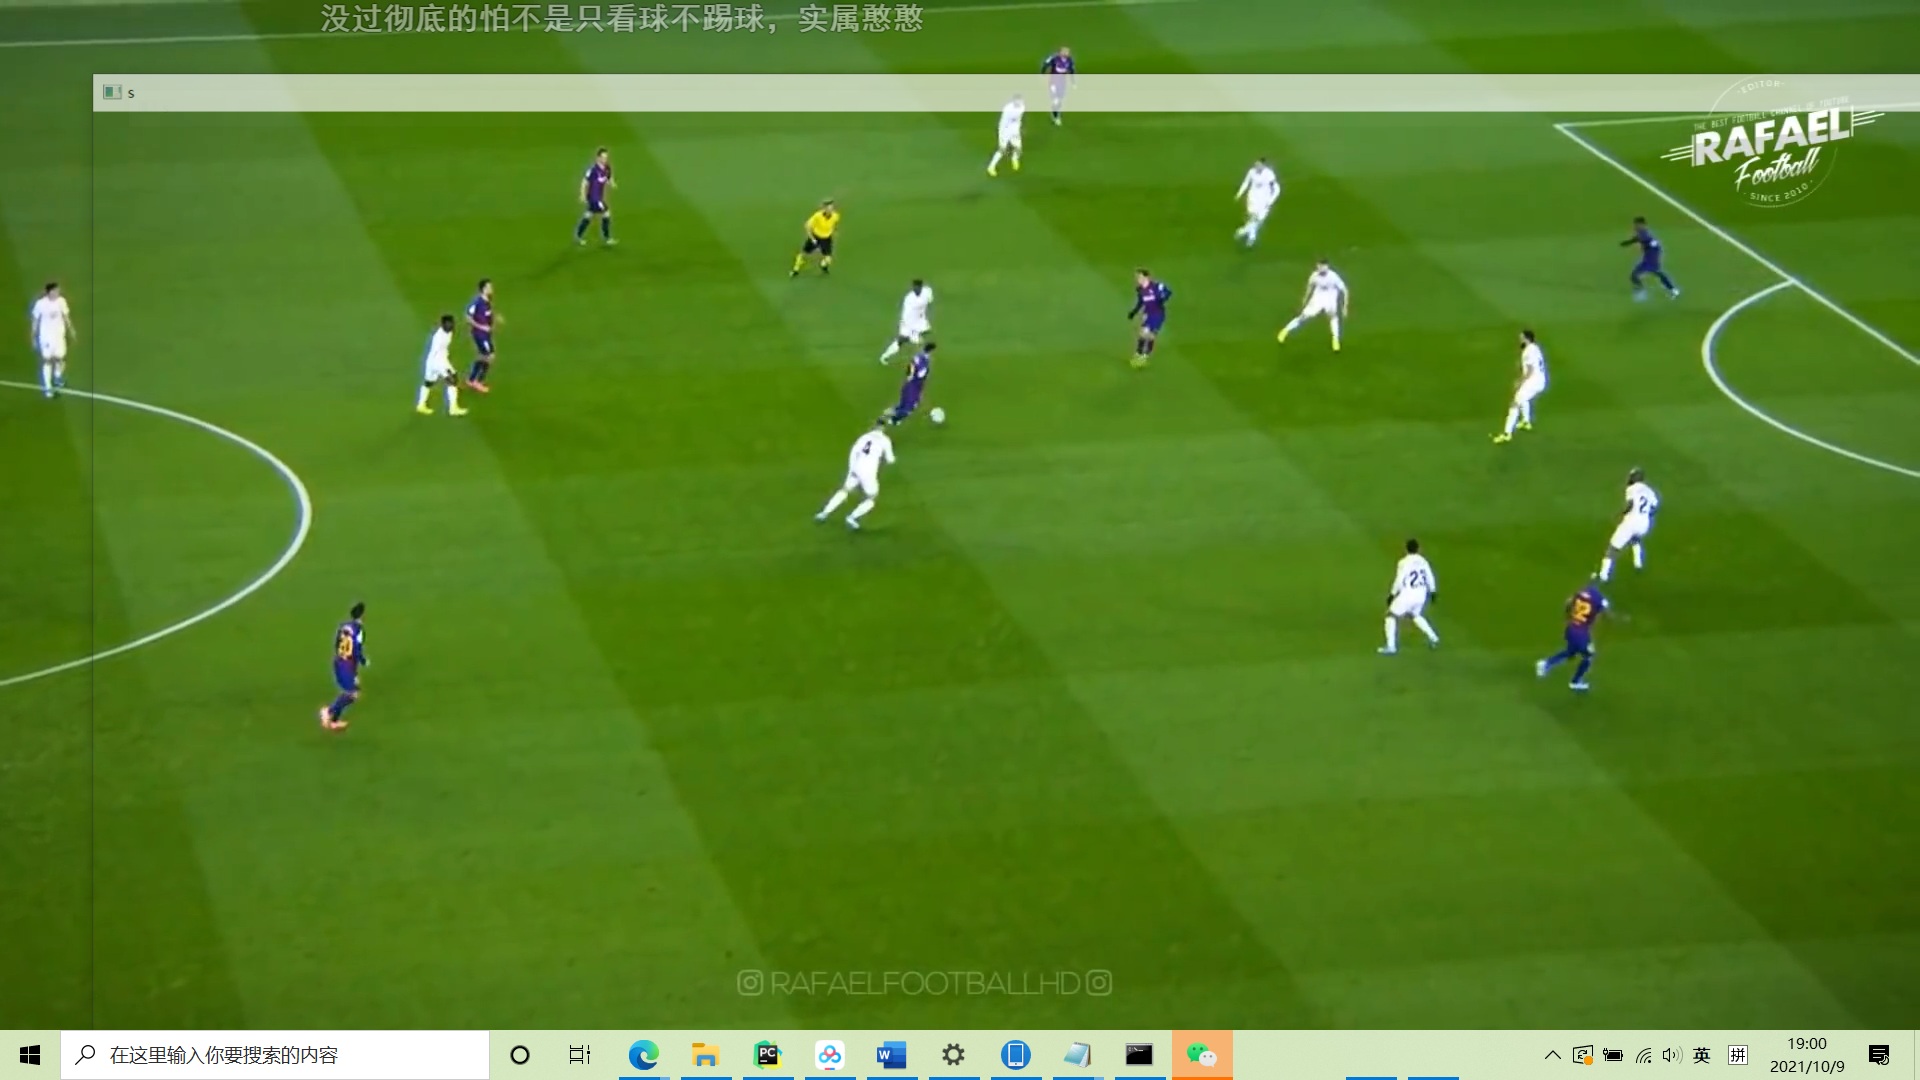ft: (928, 406, 947, 427)
